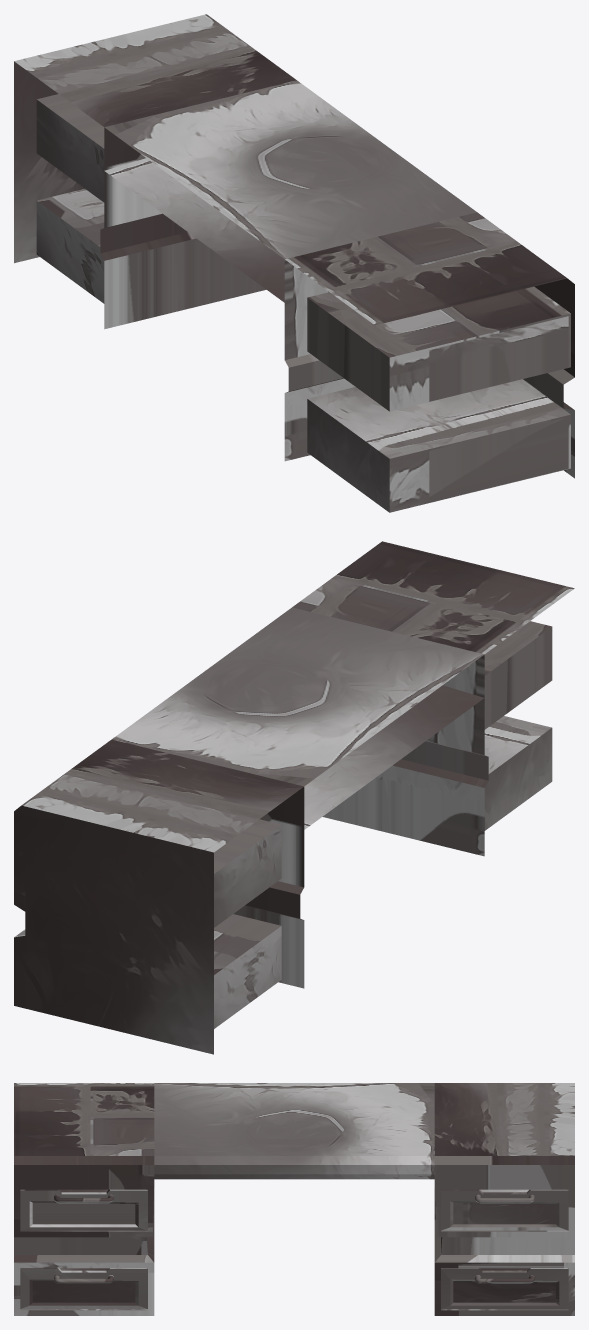
The model's file is Стол 1.fbx.
3 renders of one model, top to bottom at view 1: azimuth 30°, elevation 25°; view 2: azimuth 150°, elevation 25°; view 3: azimuth 270°, elevation 25°, orthographic. The views are drawn at different scales.
Parts seen in each view (by area): view 1: table_pc, box_table_pc2, box_table_pc; view 2: table_pc; view 3: table_pc, box_table_pc, box_table_pc2, box_table_pc3, box_table_pc4.
Part boxes in pixels (<box>): table_pc: <box>14,14,574,512</box>; box_table_pc2: <box>429,417,568,502</box>; box_table_pc: <box>429,316,568,401</box>; table_pc: <box>14,541,574,1054</box>; table_pc: <box>14,1083,574,1315</box>; box_table_pc: <box>20,1189,147,1230</box>; box_table_pc2: <box>20,1268,147,1309</box>; box_table_pc3: <box>441,1189,568,1230</box>; box_table_pc4: <box>441,1268,568,1309</box>.
Size of the model in its own units: 302 by 277 by 898.
